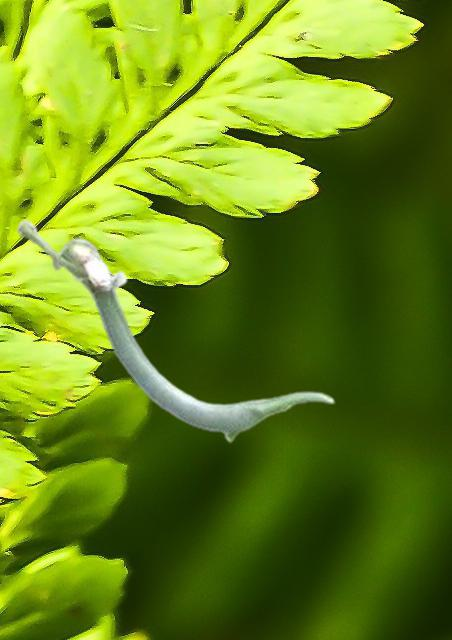french_bean: (16, 218, 334, 442)
